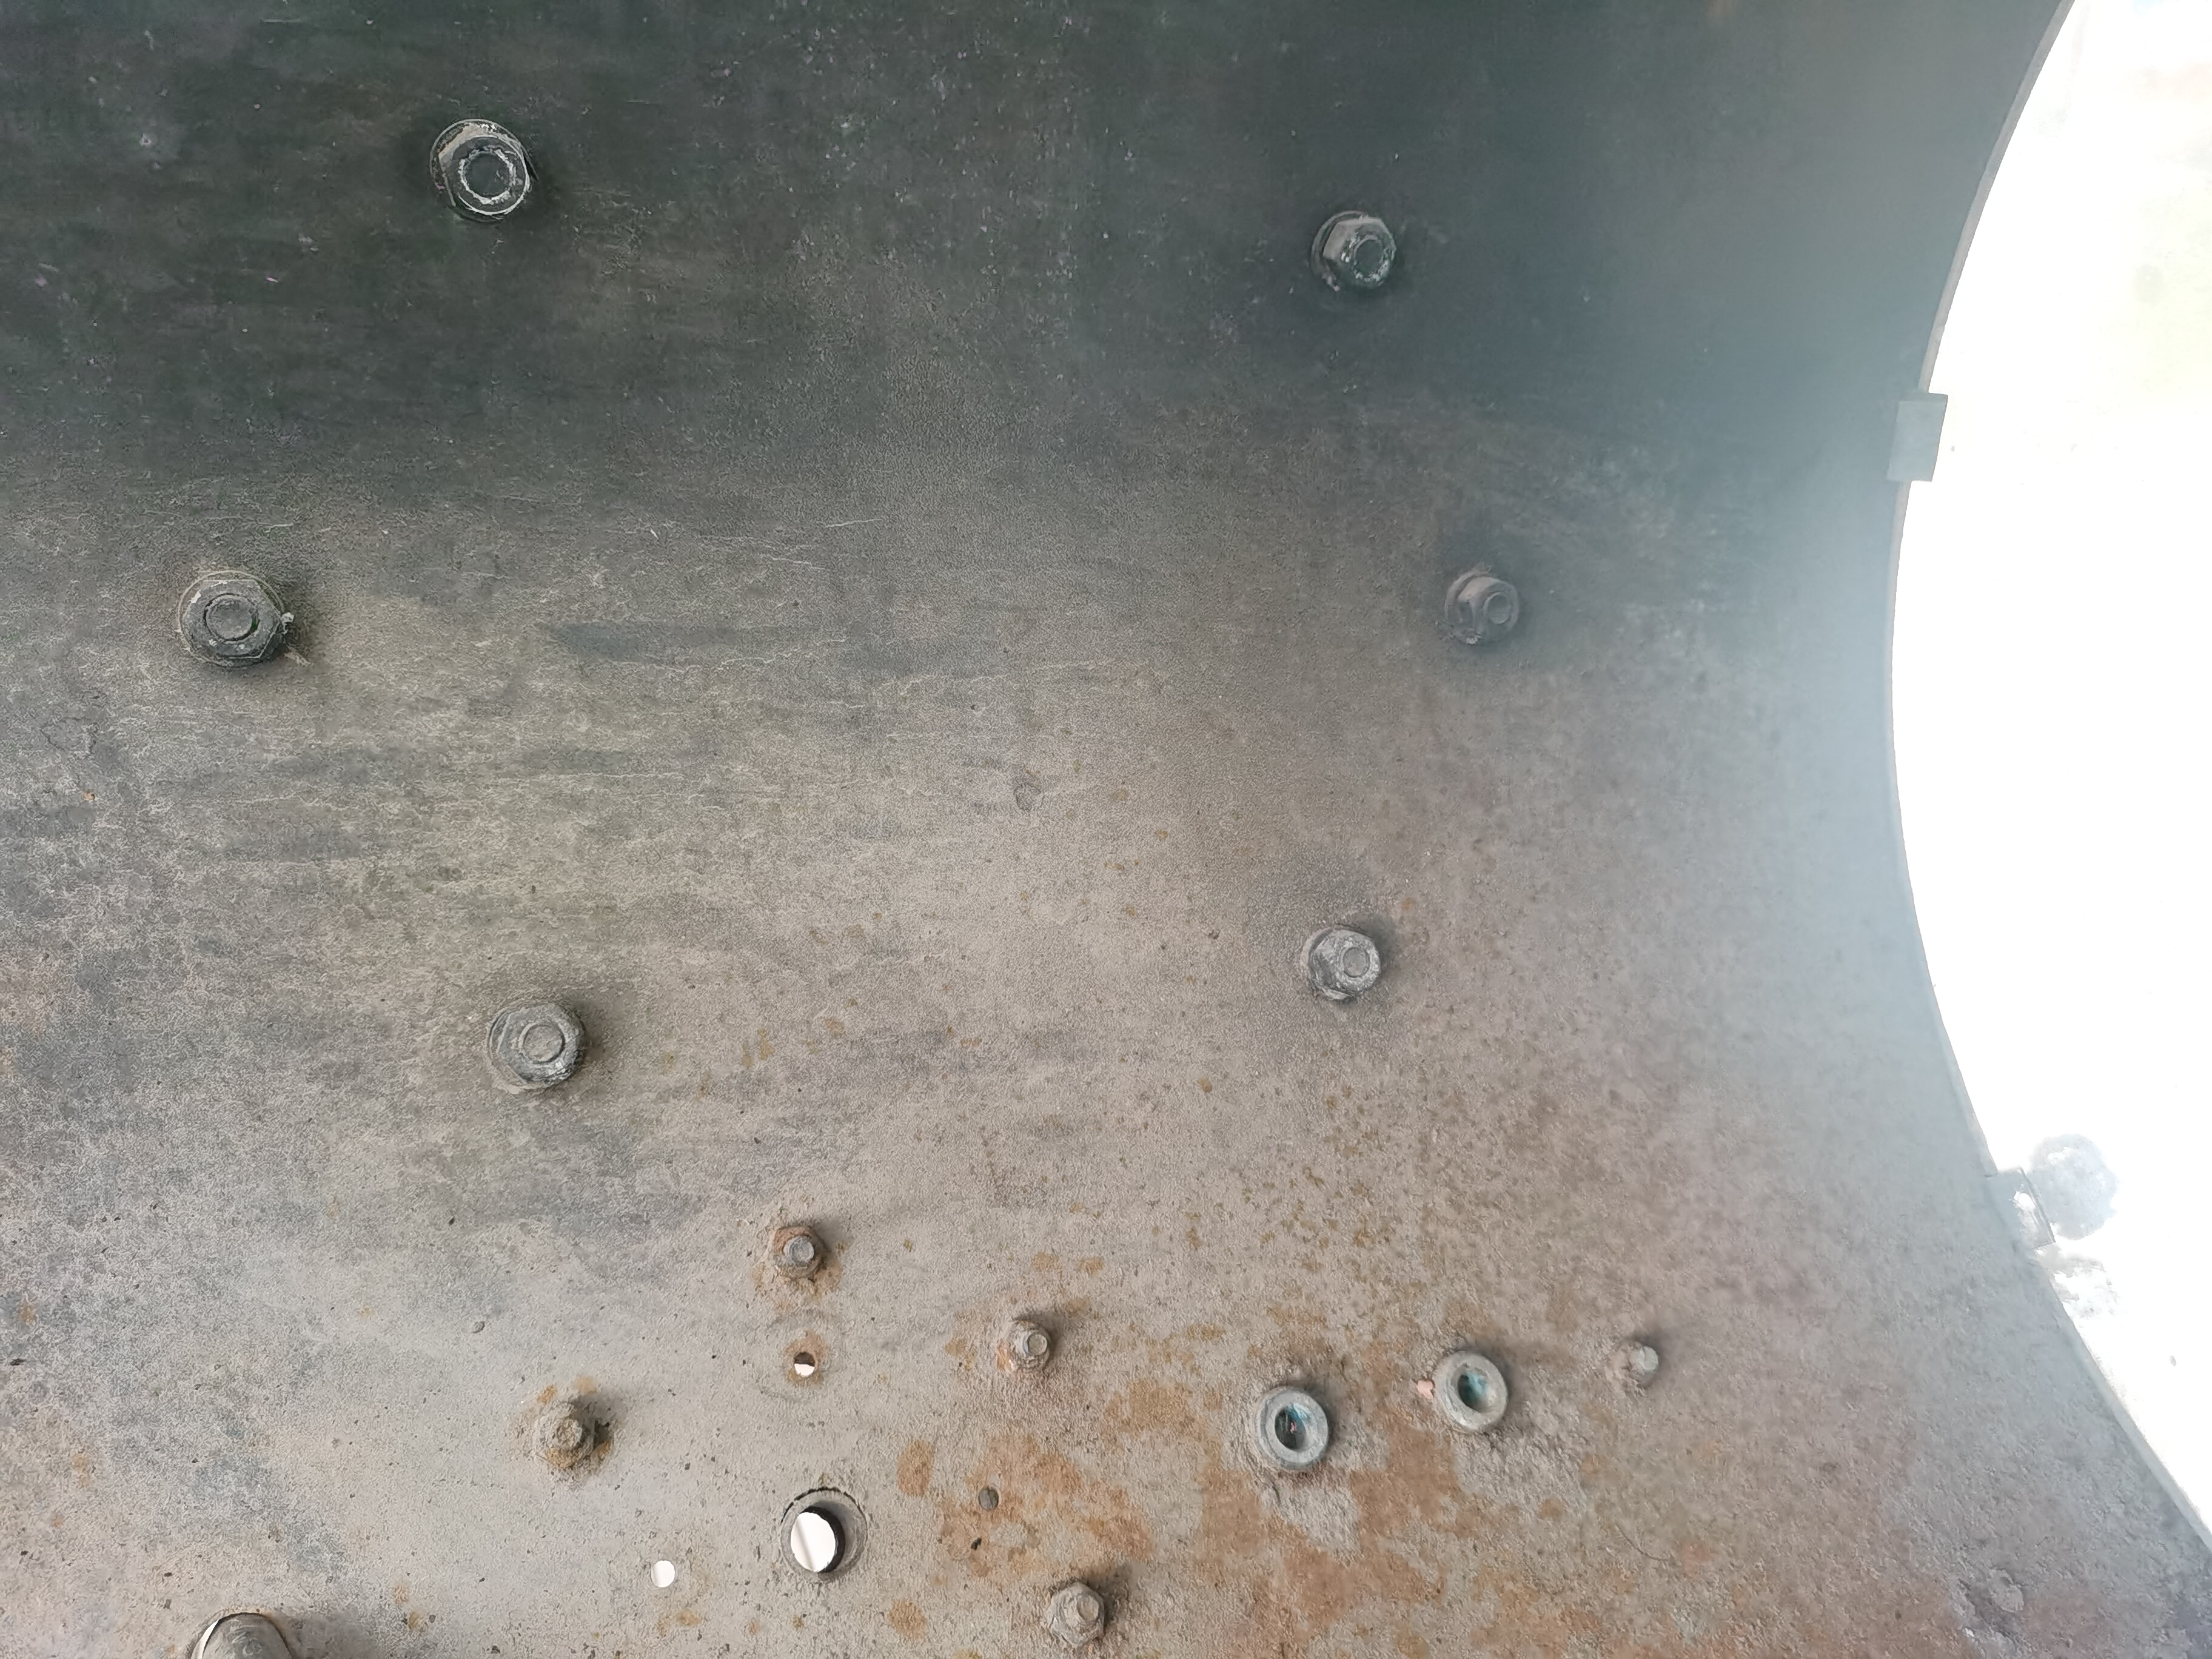bolt_b: (428, 115, 535, 227), (176, 575, 287, 666), (491, 997, 589, 1093), (1301, 917, 1390, 1006), (1315, 209, 1406, 296), (1447, 570, 1526, 647), (528, 1398, 601, 1476), (989, 1310, 1059, 1382), (1042, 1579, 1109, 1650), (765, 1220, 831, 1286)
